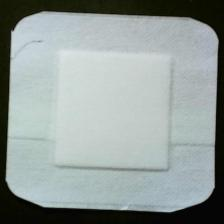Dressing: (4, 11, 221, 215)
F_Body: (12, 34, 52, 73)
